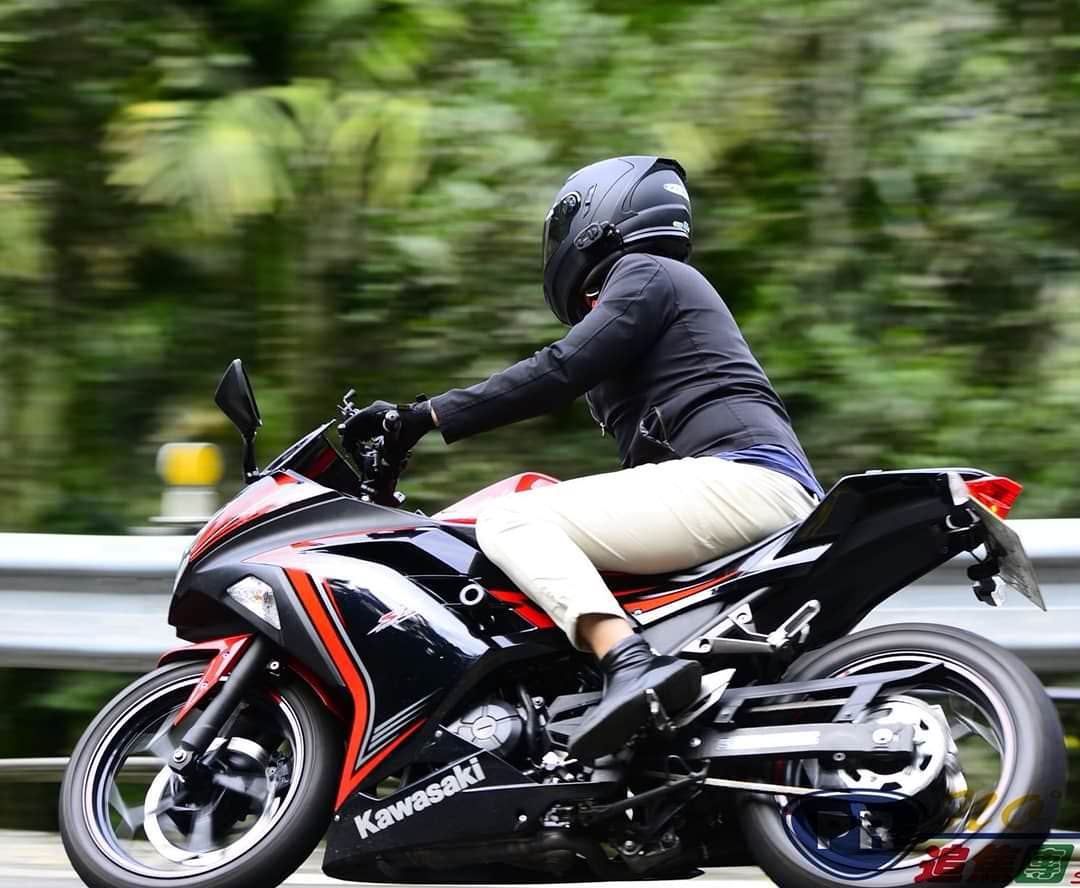helmet: (519, 161, 712, 268)
